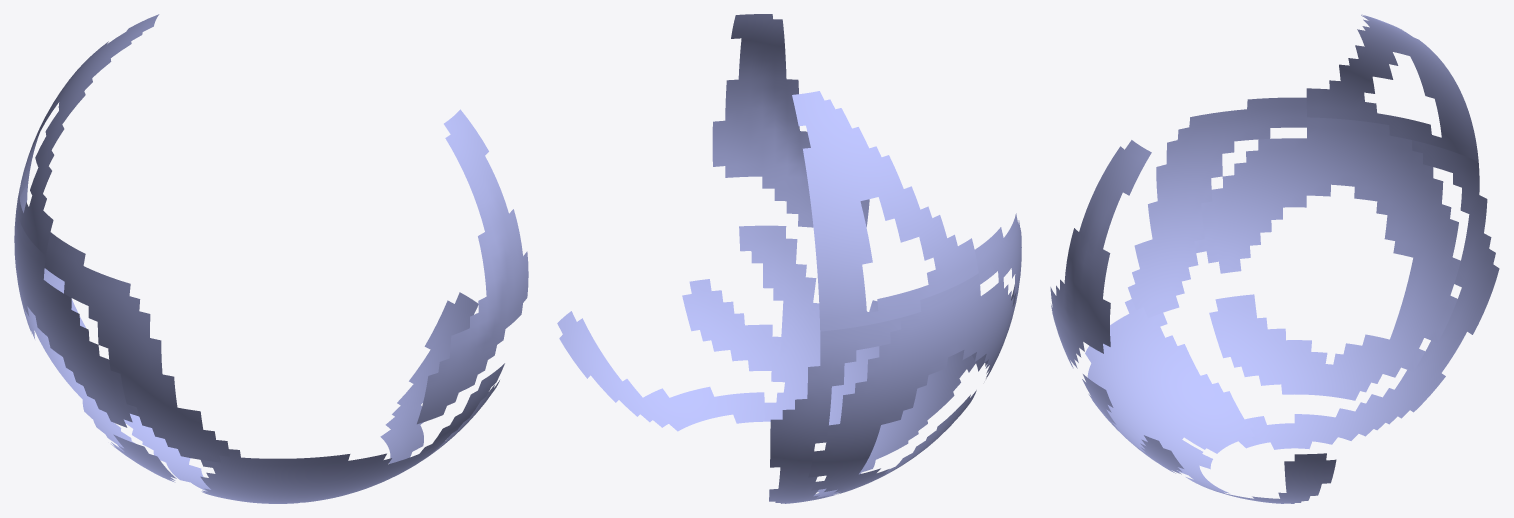
The model's file is water.fbx.
The picture shows the model from 3 angles, left to right: view 1: azimuth 30°, elevation 25°; view 2: azimuth 150°, elevation 25°; view 3: azimuth 270°, elevation 25°; orthographic projection. The views are drawn at different scales.
Visible parts, largest first — view 1: Water.004, Water.008, Water.005, Water.002, Water.007, Water, Water.006, Water.003; view 2: Water.007, Water.005, Water.004, Water.003, Water.002, Water.006, Water, Water.008; view 3: Water.005, Water.002, Water.008, Water.006, Water.007, Water.004, Water, Water.003.
Part boxes in pixels (x1,y1,x2,y2): Water.004: [417, 109, 528, 424]; Water.008: [44, 232, 229, 462]; Water.005: [14, 220, 176, 482]; Water.002: [200, 444, 432, 503]; Water.007: [15, 14, 159, 255]; Water: [380, 292, 478, 463]; Water.006: [14, 183, 210, 492]; Water.003: [424, 363, 504, 459]; Water.007: [792, 91, 978, 331]; Water.005: [808, 273, 1014, 494]; Water.004: [712, 14, 869, 227]; Water.003: [682, 225, 816, 371]; Water.002: [764, 300, 975, 465]; Water.006: [769, 318, 901, 503]; Water: [557, 311, 764, 431]; Water.008: [972, 213, 1021, 371]; Water.005: [1194, 117, 1460, 400]; Water.002: [1085, 299, 1257, 484]; Water.008: [1128, 97, 1306, 318]; Water.006: [1249, 140, 1499, 449]; Water.007: [1306, 14, 1478, 161]; Water.004: [1050, 140, 1151, 368]; Water: [1186, 453, 1336, 503]; Water.003: [1082, 374, 1183, 474].
Size of the model in its own units: 235373 by 231622 by 225177.
